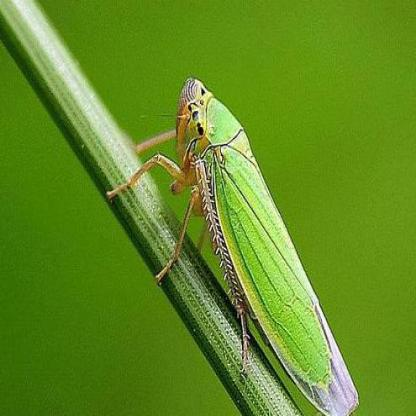Green-Leafhopper: (100, 71, 358, 416)
